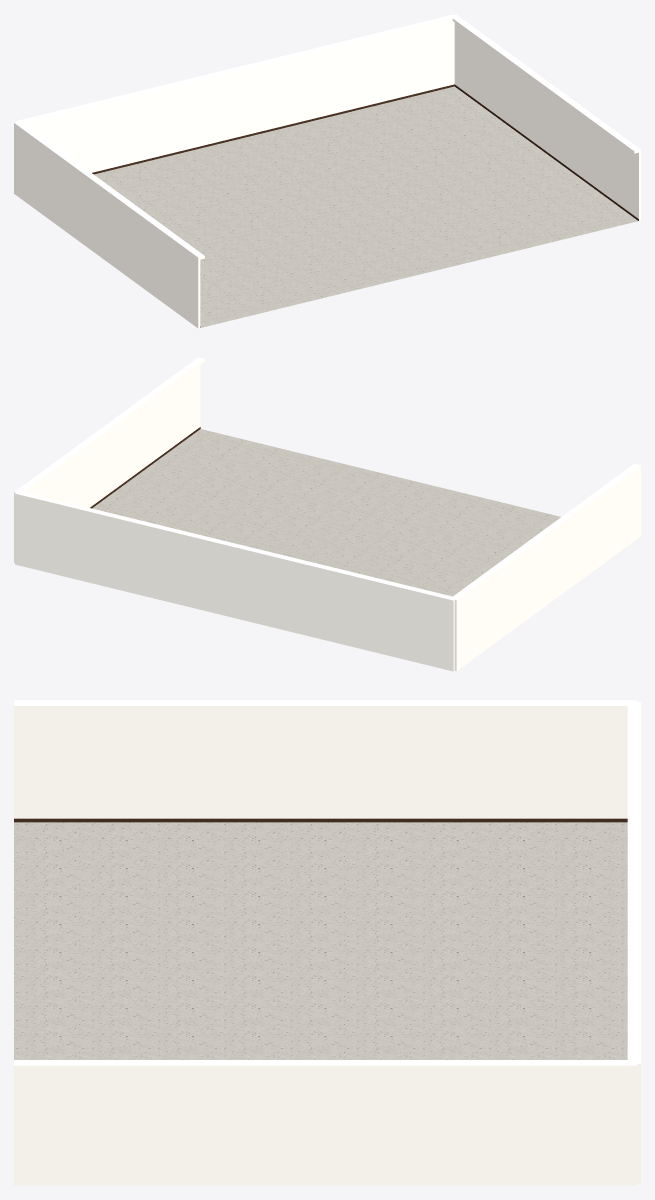
File: Store_Shell.glb
3 renders of one model, top to bottom at view 1: azimuth 30°, elevation 25°; view 2: azimuth 150°, elevation 25°; view 3: azimuth 270°, elevation 25°, orthographic. The views are drawn at different scales.
Parts seen in each view (by area): view 1: Floor_Terrazzo, Store_Shell_Walls, Store_Shell_Walnut; view 2: Store_Shell_Walls, Floor_Terrazzo; view 3: Store_Shell_Walls, Floor_Terrazzo, Store_Shell_Walnut.
Part boxes in pixels (left/top/right/bottom): Floor_Terrazzo: left=94, top=86, right=638, bottom=327; Store_Shell_Walls: left=14, top=14, right=640, bottom=328; Store_Shell_Walnut: left=92, top=84, right=638, bottom=327; Store_Shell_Walls: left=14, top=357, right=640, bottom=671; Floor_Terrazzo: left=92, top=429, right=560, bottom=596; Store_Shell_Walls: left=14, top=700, right=640, bottom=1185; Floor_Terrazzo: left=14, top=822, right=627, bottom=1059; Store_Shell_Walnut: left=14, top=818, right=627, bottom=822.
Bounding box in the file's own units: 22.2 × 3.4 × 16.1.
Materials: 5 (2 with a texture image).
